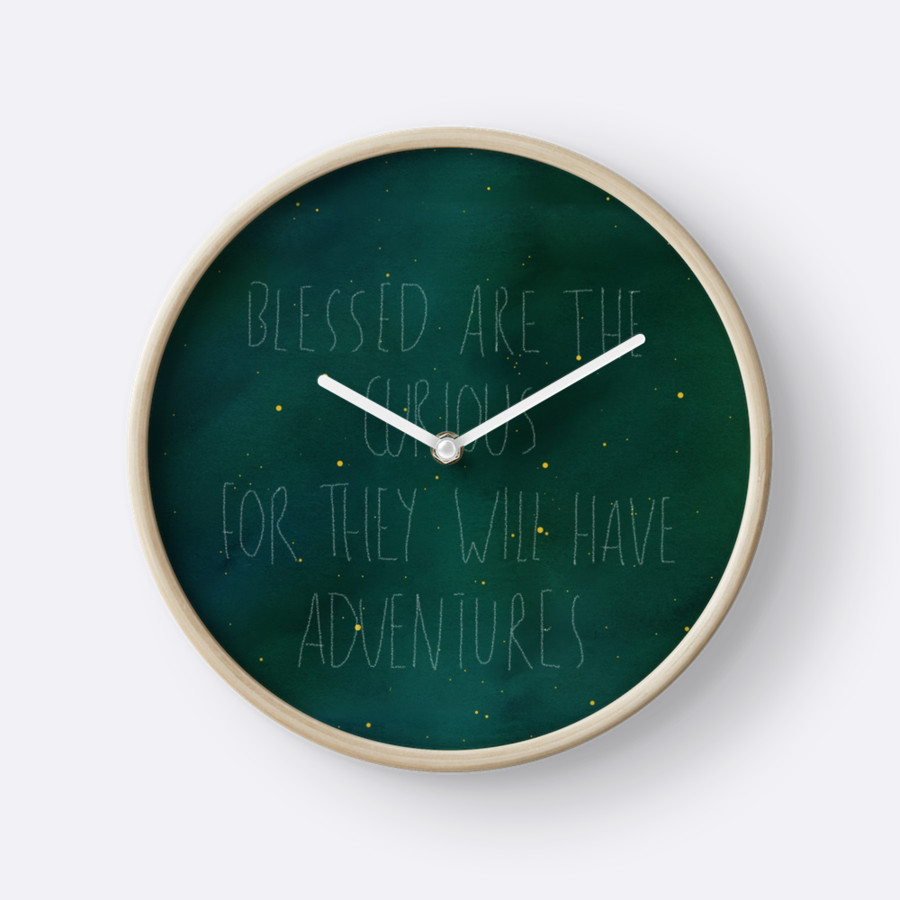clock: (149, 146, 752, 750)
